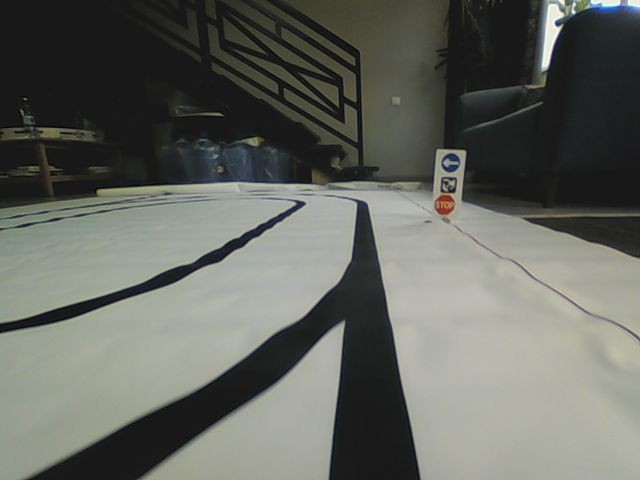Stop: (434, 194, 457, 216)
